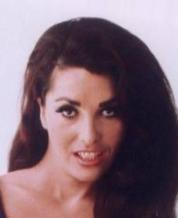face: (55, 97, 125, 171)
